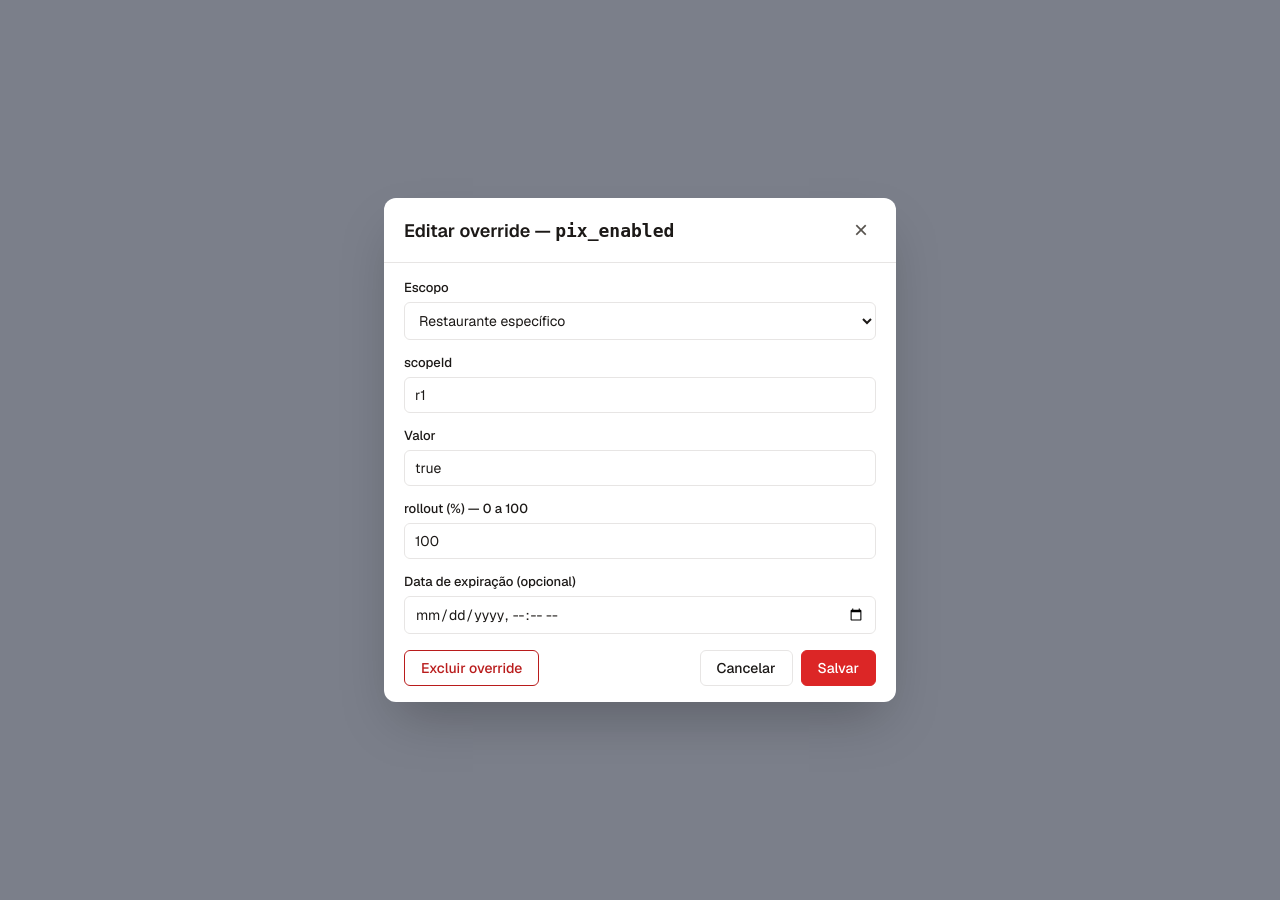
Scenario: ModalOverrideFeatureFlag (RF-ADM-FF-05/06) › exige confirmação ao excluir override
The width and height of the screenshot is (1280, 900).
Click the button with test id "btn-excluir-override": (472, 668) [404,650,539,686]
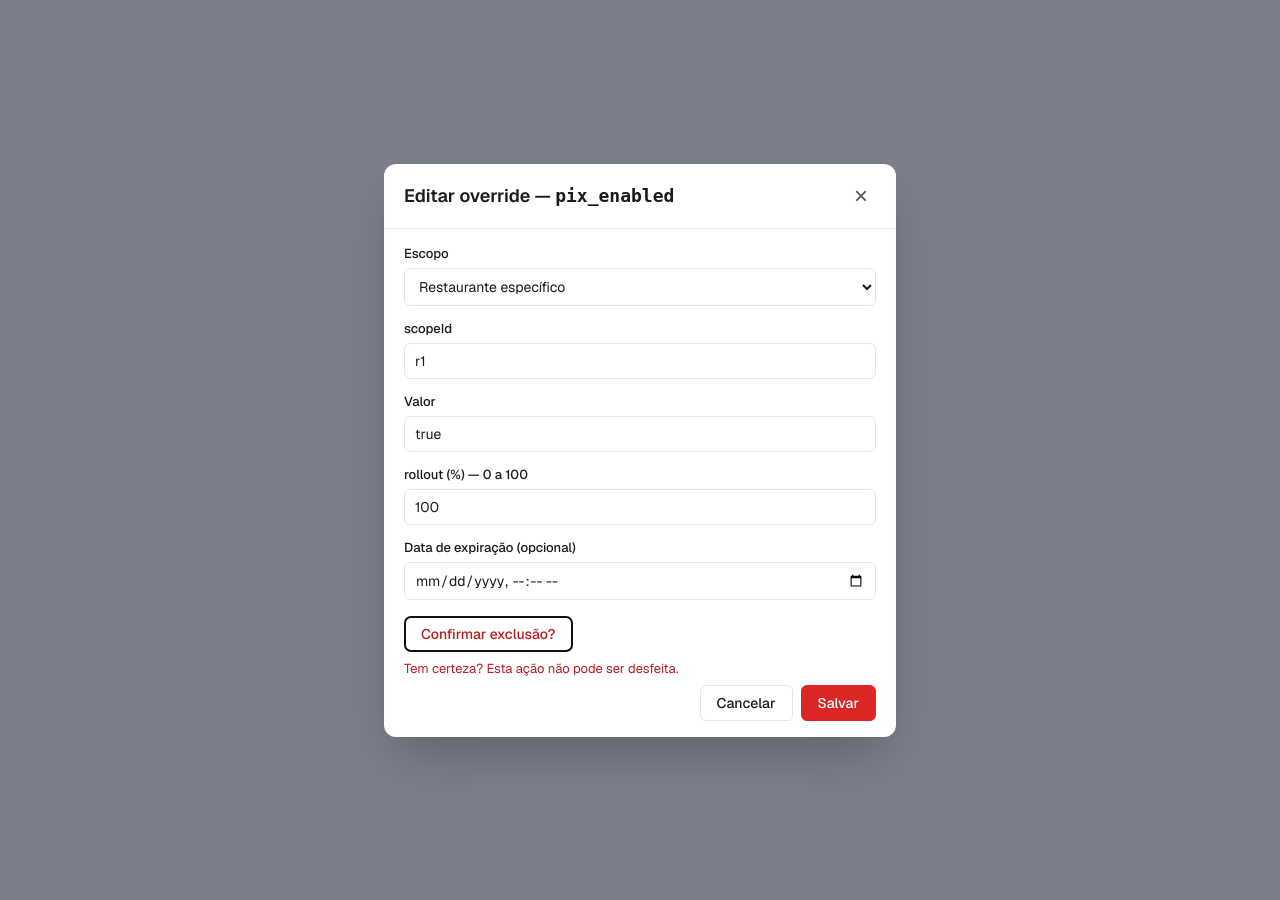
Result: the text "Tem certeza? Esta ação não pode ser desfeita." is shown at [404,660,679,676]
